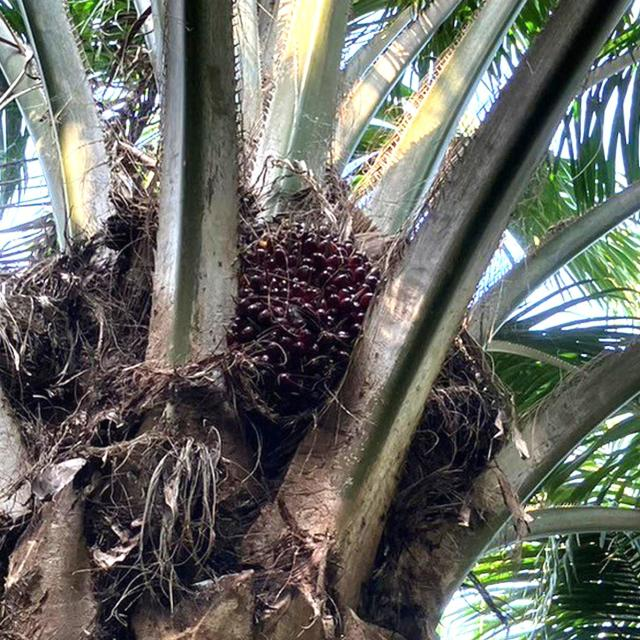ripe: (222, 208, 401, 451)
